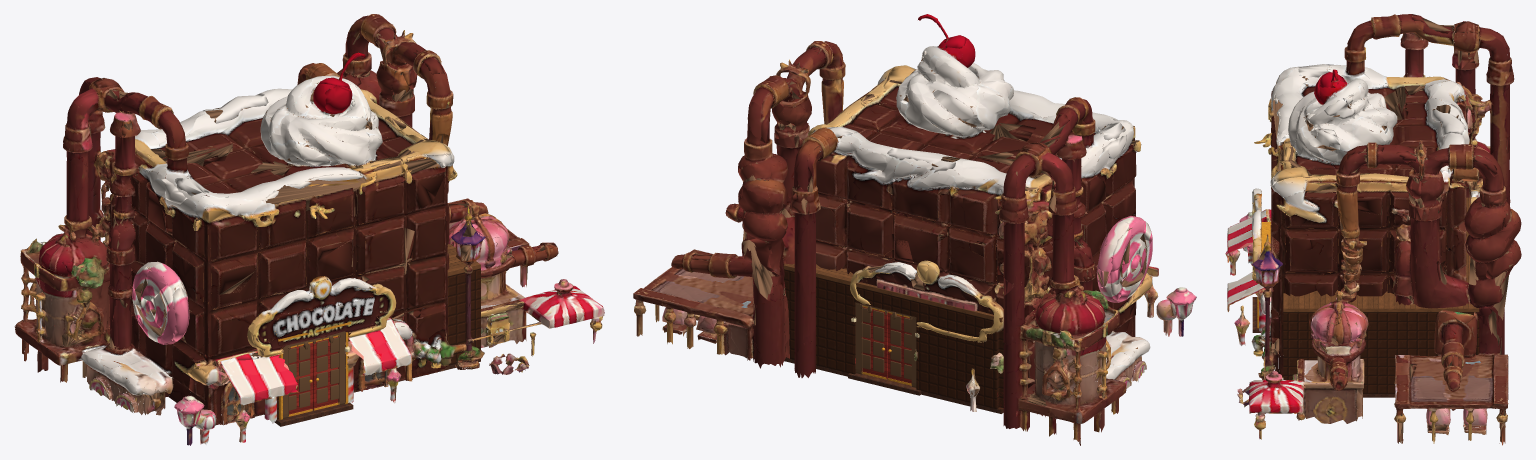
Rendered from Landmark_ChocoBar_Fractured.fbx.
3 renders of one model, left to right at view 1: azimuth 30°, elevation 25°; view 2: azimuth 150°, elevation 25°; view 3: azimuth 270°, elevation 25°, orthographic. The views are drawn at different scales.
Visible parts, largest first — view 1: Landmark_ChocoBar_Frag_11, Landmark_ChocoBar_Frag_25, Landmark_ChocoBar_Frag_44, Landmark_ChocoBar_Frag_02, Landmark_ChocoBar_Frag_17, Landmark_ChocoBar_Frag_00, Landmark_ChocoBar_Frag_53, Landmark_ChocoBar_Frag_40, Landmark_ChocoBar_Frag_51, Landmark_ChocoBar_Frag_29, Landmark_ChocoBar_Frag_26, Landmark_ChocoBar_Frag_12 (+28 smaller); view 2: Landmark_ChocoBar_Frag_04, Landmark_ChocoBar_Frag_32, Landmark_ChocoBar_Frag_00, Landmark_ChocoBar_Frag_22, Landmark_ChocoBar_Frag_39, Landmark_ChocoBar_Frag_15, Landmark_ChocoBar_Frag_23, Landmark_ChocoBar_Frag_35, Landmark_ChocoBar_Frag_08, Landmark_ChocoBar_Frag_09, Landmark_ChocoBar_Frag_06, Landmark_ChocoBar_Frag_41 (+26 smaller); view 3: Landmark_ChocoBar_Frag_01, Landmark_ChocoBar_Frag_36, Landmark_ChocoBar_Frag_27, Landmark_ChocoBar_Frag_08, Landmark_ChocoBar_Frag_24, Landmark_ChocoBar_Frag_42, Landmark_ChocoBar_Frag_37, Landmark_ChocoBar_Frag_29, Landmark_ChocoBar_Frag_03, Landmark_ChocoBar_Frag_30, Landmark_ChocoBar_Frag_33, Landmark_ChocoBar_Frag_09 (+28 smaller).
Part boxes in pixels (x1=…): Landmark_ChocoBar_Frag_11: x1=310, y1=220, x2=414, y2=332; Landmark_ChocoBar_Frag_25: x1=255, y1=168, x2=379, y2=260; Landmark_ChocoBar_Frag_44: x1=180, y1=188, x2=276, y2=294; Landmark_ChocoBar_Frag_02: x1=41, y1=281, x2=149, y2=406; Landmark_ChocoBar_Frag_17: x1=240, y1=243, x2=330, y2=356; Landmark_ChocoBar_Frag_00: x1=20, y1=159, x2=119, y2=302; Landmark_ChocoBar_Frag_53: x1=284, y1=83, x2=373, y2=174; Landmark_ChocoBar_Frag_40: x1=356, y1=111, x2=451, y2=230; Landmark_ChocoBar_Frag_51: x1=150, y1=278, x2=247, y2=366; Landmark_ChocoBar_Frag_29: x1=410, y1=212, x2=485, y2=320; Landmark_ChocoBar_Frag_26: x1=113, y1=282, x2=214, y2=414; Landmark_ChocoBar_Frag_12: x1=145, y1=101, x2=260, y2=204; Landmark_ChocoBar_Frag_04: x1=1003, y1=320, x2=1110, y2=445; Landmark_ChocoBar_Frag_32: x1=905, y1=228, x2=1044, y2=328; Landmark_ChocoBar_Frag_00: x1=1004, y1=222, x2=1120, y2=347; Landmark_ChocoBar_Frag_22: x1=795, y1=126, x2=914, y2=236; Landmark_ChocoBar_Frag_39: x1=920, y1=59, x2=1035, y2=159; Landmark_ChocoBar_Frag_15: x1=885, y1=147, x2=963, y2=254; Landmark_ChocoBar_Frag_23: x1=741, y1=226, x2=849, y2=337; Landmark_ChocoBar_Frag_35: x1=822, y1=234, x2=938, y2=350; Landmark_ChocoBar_Frag_08: x1=694, y1=246, x2=795, y2=368; Landmark_ChocoBar_Frag_09: x1=961, y1=186, x2=1070, y2=295; Landmark_ChocoBar_Frag_06: x1=1081, y1=147, x2=1144, y2=271; Landmark_ChocoBar_Frag_41: x1=931, y1=324, x2=1034, y2=425; Landmark_ChocoBar_Frag_01: x1=1324, y1=211, x2=1439, y2=321; Landmark_ChocoBar_Frag_36: x1=1266, y1=175, x2=1359, y2=271; Landmark_ChocoBar_Frag_27: x1=1283, y1=295, x2=1371, y2=423; Landmark_ChocoBar_Frag_08: x1=1411, y1=295, x2=1508, y2=376; Landmark_ChocoBar_Frag_24: x1=1416, y1=182, x2=1506, y2=297; Landmark_ChocoBar_Frag_42: x1=1464, y1=194, x2=1521, y2=288; Landmark_ChocoBar_Frag_37: x1=1399, y1=297, x2=1499, y2=412; Landmark_ChocoBar_Frag_29: x1=1252, y1=231, x2=1327, y2=339; Landmark_ChocoBar_Frag_03: x1=1418, y1=140, x2=1506, y2=214; Landmark_ChocoBar_Frag_30: x1=1346, y1=321, x2=1420, y2=397; Landmark_ChocoBar_Frag_33: x1=1336, y1=142, x2=1421, y2=221; Landmark_ChocoBar_Frag_09: x1=1442, y1=62, x2=1514, y2=153.
Bounding box in the file's own units: 3659 × 2419 × 2235.
